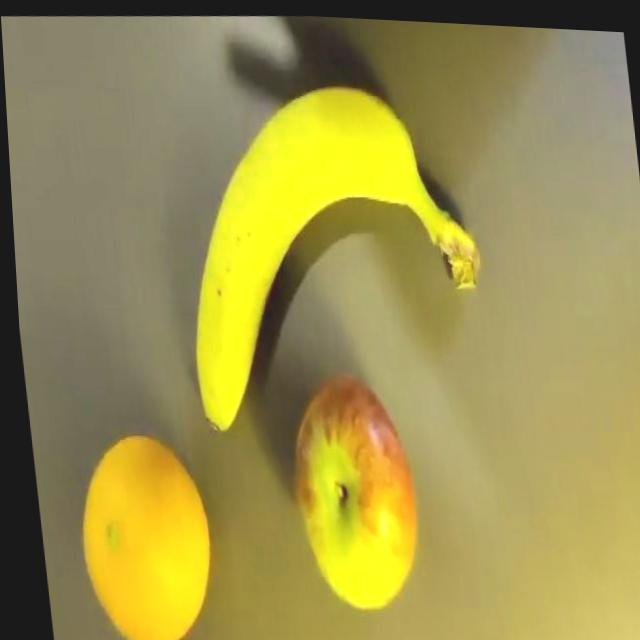Apple: (275, 365, 421, 613)
Banana: (162, 67, 495, 442)
Orange: (63, 425, 214, 640)
